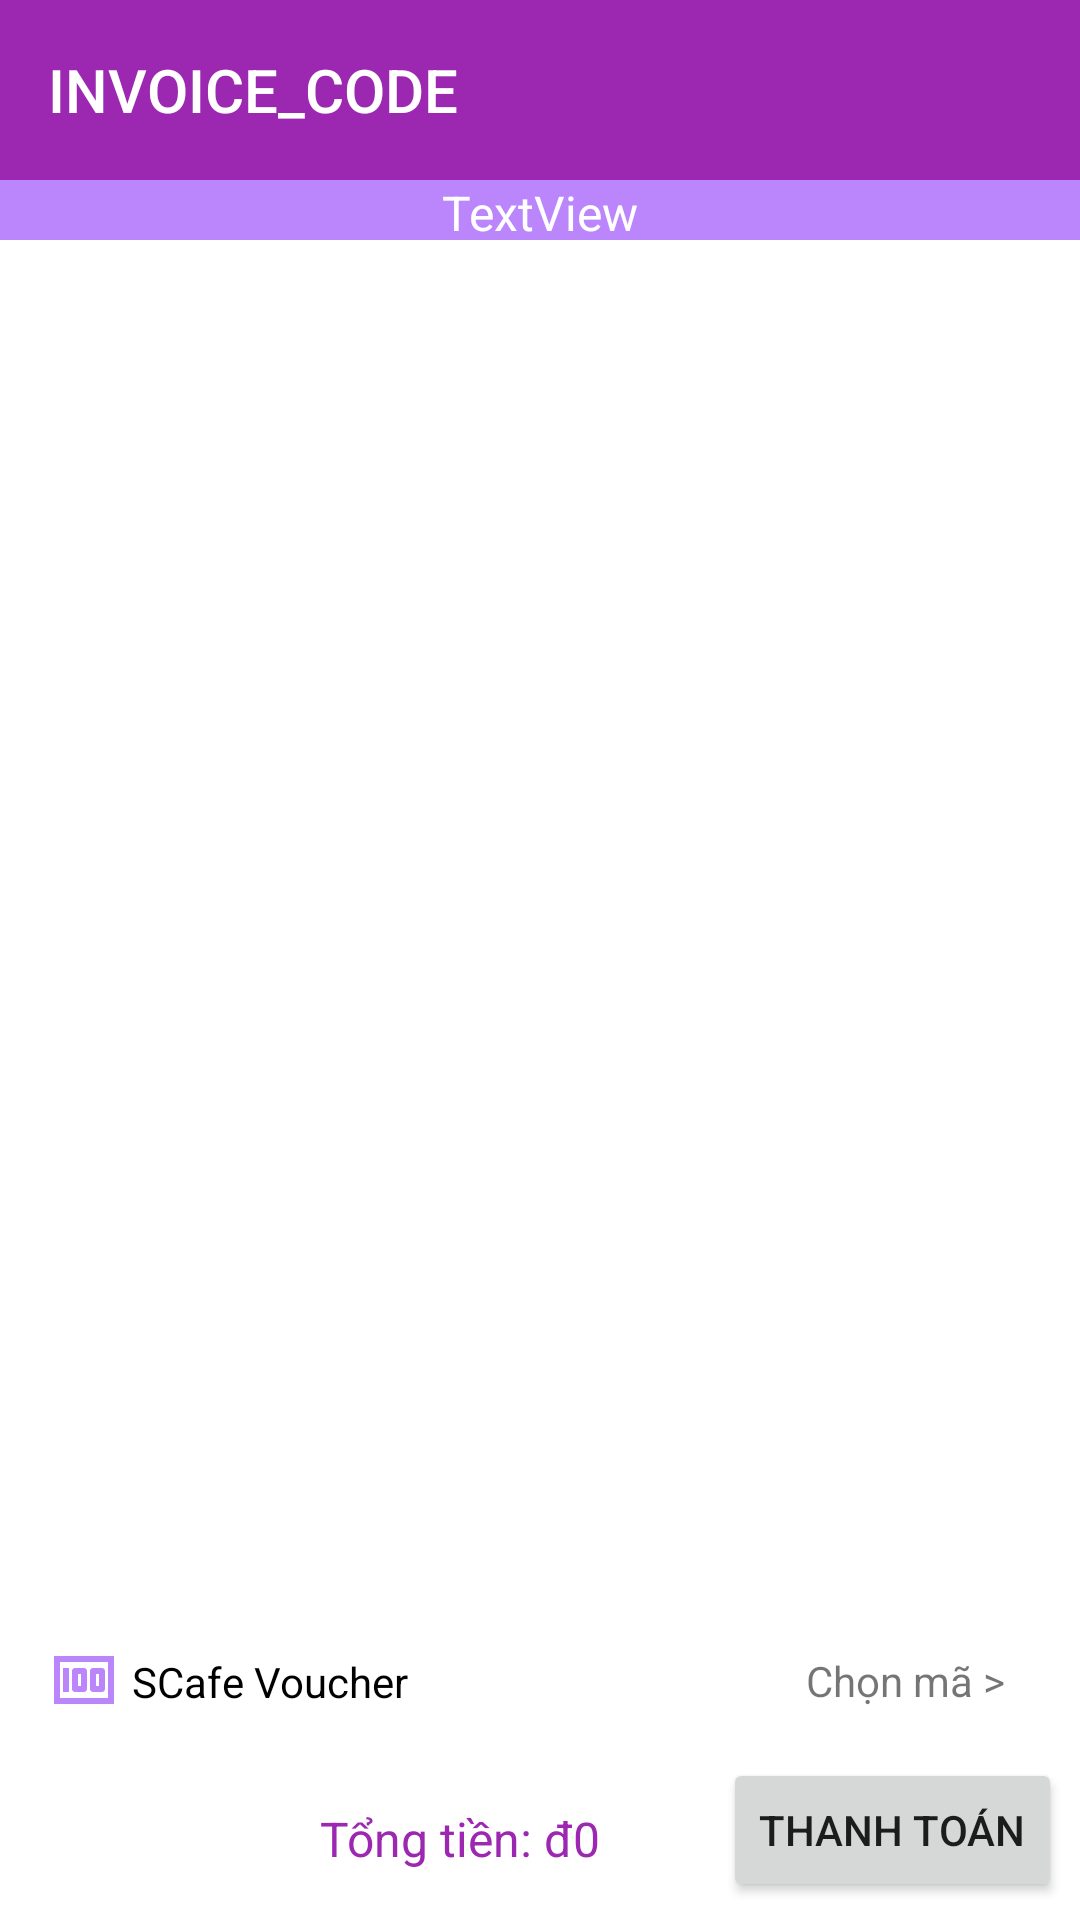

Locate icon controls on the screen. Image size 1080w x 1920h, boxes as [x1,y1,x2,y2].
money: [54,1656,114,1704]
